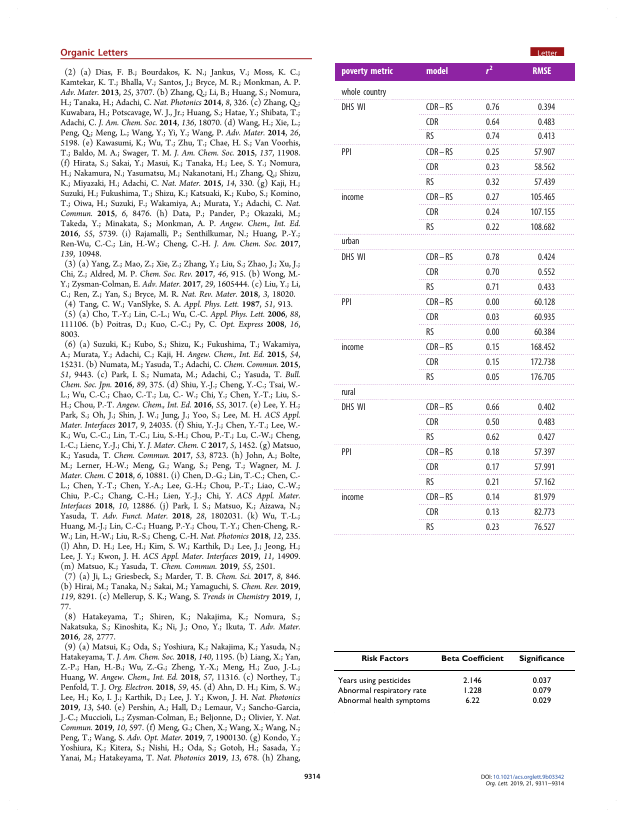borderless: (333, 61, 576, 536), (332, 649, 576, 714)
cell: (337, 696, 431, 706), (337, 686, 427, 696), (337, 676, 411, 685), (341, 67, 394, 78), (440, 654, 504, 663), (341, 87, 387, 98), (360, 654, 409, 663), (518, 654, 565, 663), (425, 102, 454, 113), (425, 147, 454, 158), (425, 192, 454, 203), (425, 252, 454, 263), (425, 297, 454, 308), (425, 342, 454, 353), (425, 402, 454, 413), (425, 447, 454, 458), (425, 492, 454, 503), (341, 102, 367, 113), (530, 192, 556, 203), (530, 207, 556, 218), (530, 222, 556, 233), (341, 252, 367, 263), (530, 342, 556, 353), (530, 357, 556, 368), (530, 372, 556, 383), (341, 402, 367, 413), (425, 67, 449, 78), (341, 192, 365, 203), (341, 342, 365, 353), (341, 492, 365, 503), (533, 147, 556, 158), (533, 162, 556, 173), (533, 177, 556, 188), (533, 297, 556, 308), (533, 312, 556, 323), (533, 327, 556, 338), (533, 447, 556, 458), (533, 462, 556, 473), (533, 477, 556, 488), (533, 492, 556, 503), (533, 507, 556, 518), (533, 522, 556, 533), (532, 67, 552, 78), (531, 686, 552, 696), (531, 696, 552, 706), (537, 102, 556, 113), (537, 117, 556, 128), (537, 132, 556, 143), (341, 237, 360, 248), (537, 252, 556, 263), (537, 267, 556, 278), (537, 282, 556, 293), (537, 402, 556, 413), (537, 417, 556, 428), (537, 432, 556, 443), (462, 686, 482, 696), (531, 676, 552, 685), (462, 676, 482, 685), (341, 387, 357, 398), (485, 102, 500, 113), (485, 117, 500, 128), (485, 132, 500, 143), (485, 147, 500, 158), (485, 162, 500, 173), (485, 177, 500, 188), (485, 192, 500, 203), (485, 207, 500, 218), (485, 222, 500, 233), (485, 252, 500, 263), (485, 267, 500, 278), (485, 282, 500, 293), (485, 297, 500, 308), (485, 312, 500, 323), (485, 327, 500, 338), (485, 342, 500, 353), (485, 357, 500, 368), (485, 372, 500, 383), (485, 402, 500, 413), (485, 417, 500, 428), (485, 432, 500, 443), (485, 447, 500, 458), (485, 462, 500, 473), (485, 477, 500, 488), (485, 492, 500, 503), (485, 507, 500, 518), (485, 522, 500, 533), (464, 696, 480, 706), (425, 117, 439, 128), (425, 162, 439, 173), (425, 207, 439, 218), (425, 267, 439, 278), (425, 312, 439, 323), (425, 357, 439, 368), (425, 417, 439, 428), (425, 462, 439, 473), (425, 507, 439, 518), (341, 147, 352, 158), (341, 297, 352, 308), (341, 447, 352, 458), (425, 132, 435, 143), (425, 177, 435, 188), (425, 222, 435, 233), (425, 282, 435, 293), (425, 327, 435, 338), (425, 372, 435, 383), (425, 432, 435, 443), (425, 477, 435, 488), (425, 522, 435, 533), (485, 64, 494, 76)
